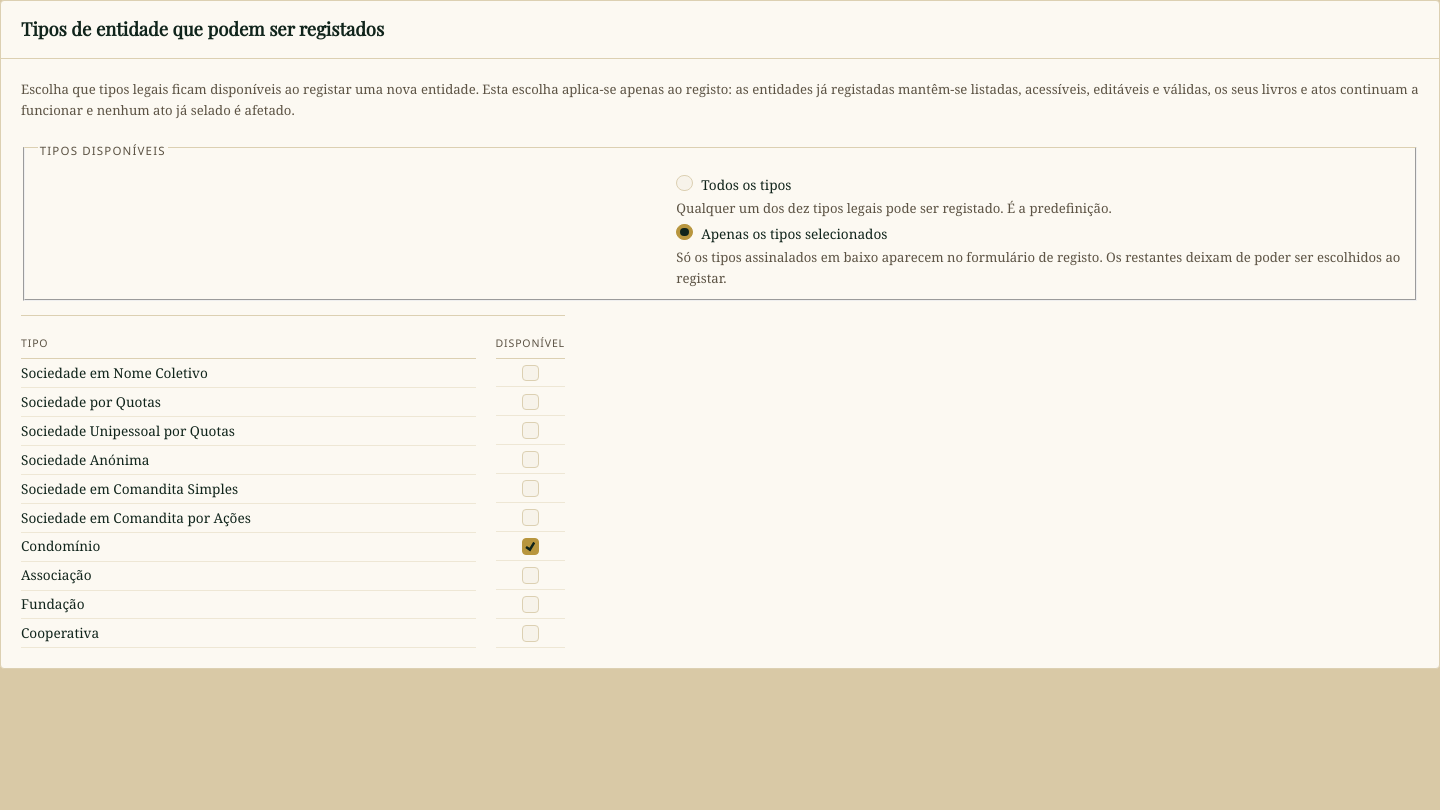
EntityKindsSection — an empty selection is never submitted as a narrowing › refuses to untick the last remaining type and points at the state that means "all"
Click the checkbox labelled "Condomínio".
click(530, 547)  # box [522,538,539,555]
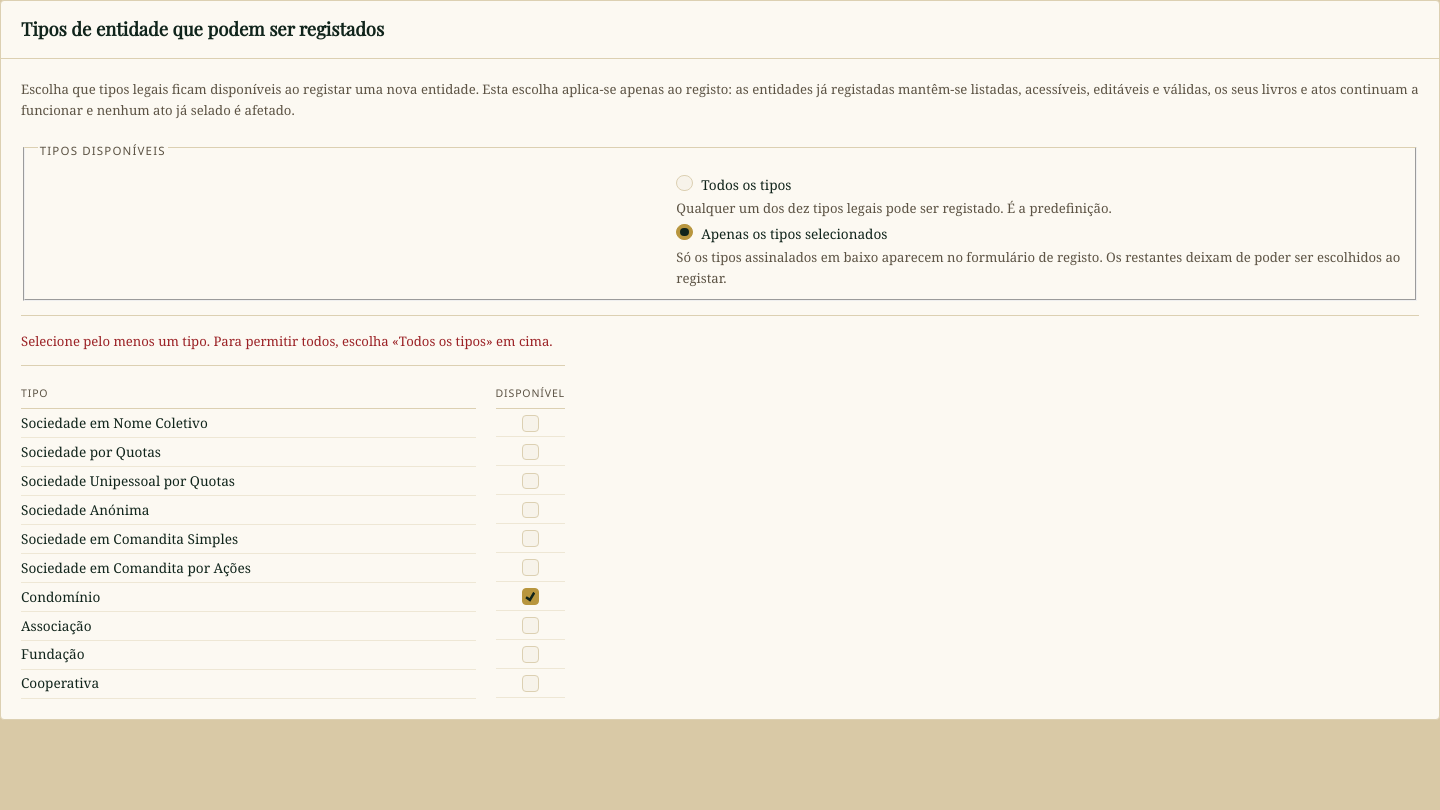
Check: the checkbox labelled "Condomínio" is checked, box [522,588,539,605]
Check: the message shows "Selecione pelo menos um tipo. Para permitir todos, escolha «Todos os tipos» em cima.", box [21,332,553,350]
